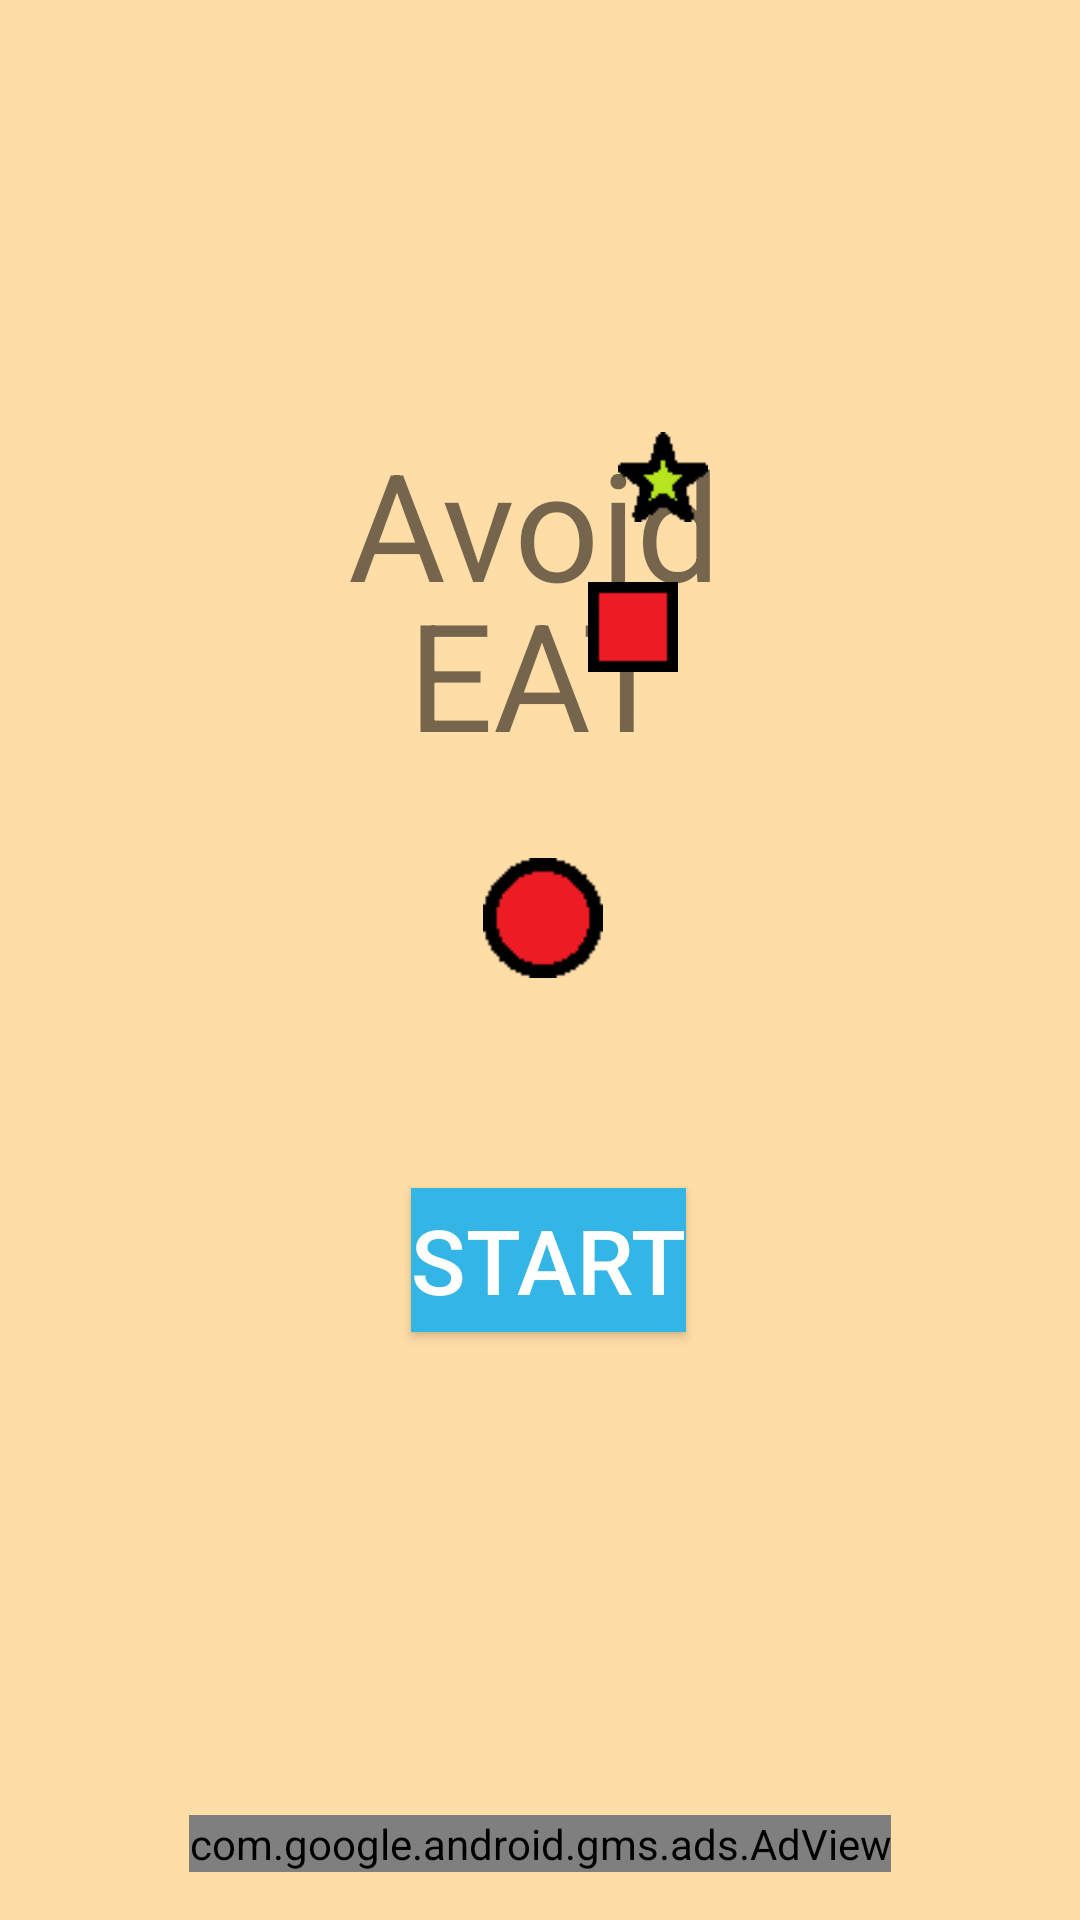

Icons on this 1080×1920 Android screen, each with its box as (x1, y1, x2, y2):
star: (618, 432, 708, 522)
